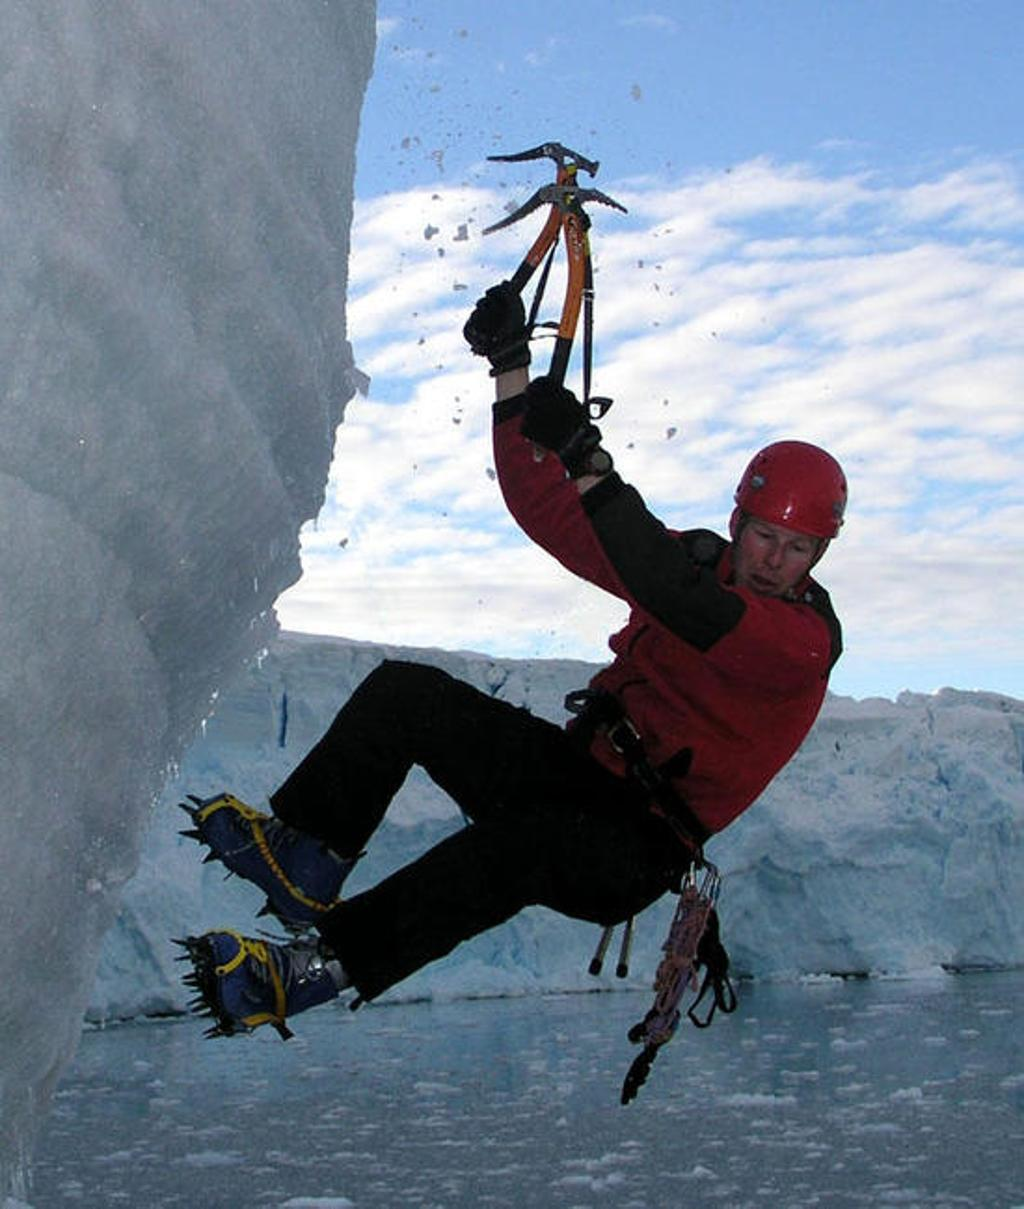face: (742, 501, 818, 600)
